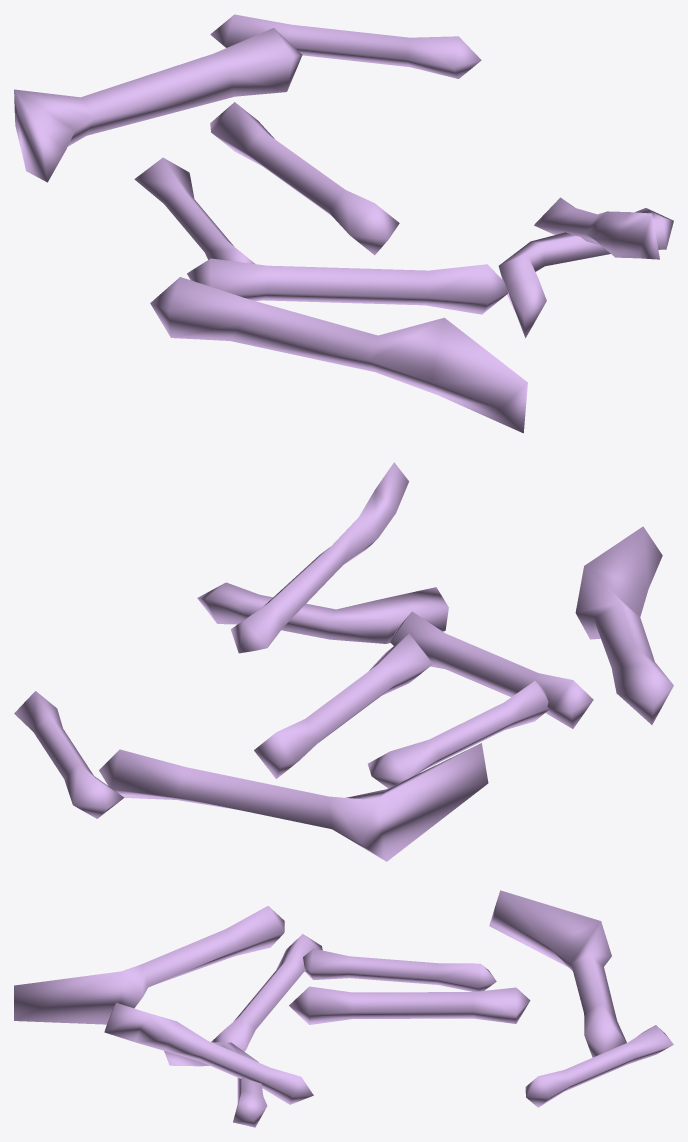
File: ytlds_Object (36).fbx
The picture shows the model from 3 angles, top to bottom: view 1: azimuth 30°, elevation 25°; view 2: azimuth 150°, elevation 25°; view 3: azimuth 270°, elevation 25°; orthographic projection. The views are drawn at different scales.
Parts seen in each view (by area): view 1: Object36; view 2: Object36; view 3: Object36.
Part boxes in pixels (box(x1,y1,x2,y2)): Object36: box(14, 14, 673, 433); Object36: box(14, 462, 673, 861); Object36: box(14, 890, 673, 1127).
Bounding box in the file's own units: 90.9 × 23.03 × 140.
